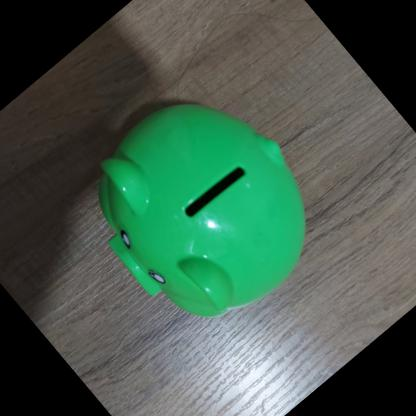plastic: (48, 55, 358, 366)
